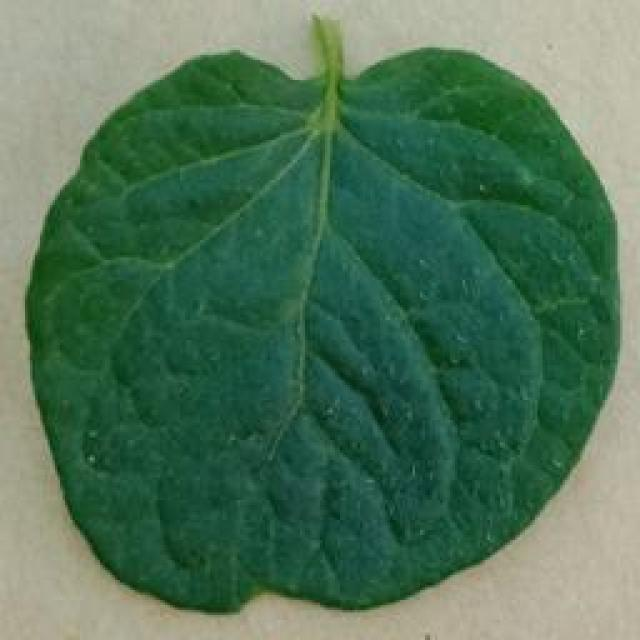Potato_Healthy: (26, 23, 614, 616)
